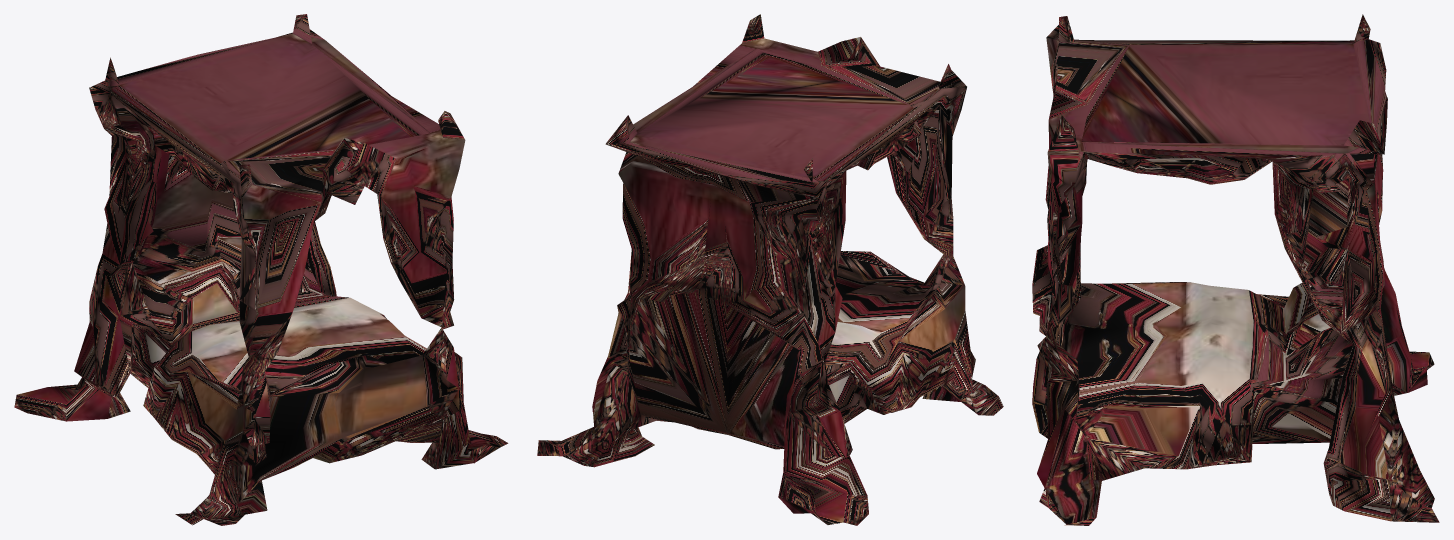
The model's file is meshy_bed_canopy_red_lod1.glb.
The picture shows the model from 3 angles, left to right: view 1: azimuth 30°, elevation 25°; view 2: azimuth 150°, elevation 25°; view 3: azimuth 270°, elevation 25°; orthographic projection. The views are drawn at different scales.
Bounding box in the file's own units: 2.37 × 2.4 × 2.33.
Materials: 1 (1 with a texture image).
